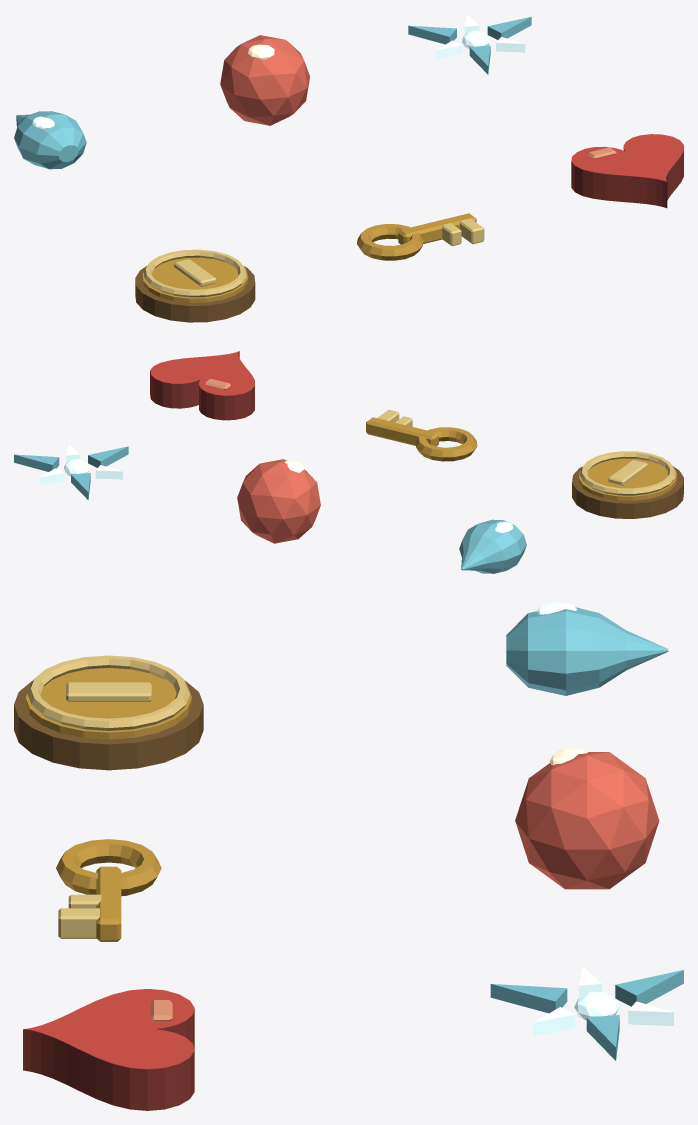
File: props.glb
3 renders of one model, top to bottom at view 1: azimuth 30°, elevation 25°; view 2: azimuth 150°, elevation 25°; view 3: azimuth 270°, elevation 25°, orthographic. The views are drawn at different scales.
Visible parts, largest first — view 1: Heart_Solid, Hostile_RedSphere, Tear_Body, Coin_Base, Coin_Face, Coin_RaisedRim, Key_Bow, Key_Shaft, Hit_Shard_03, Coin_MintMark, Hit_Shard_01, Key_ToothA; view 2: Heart_Solid, Hostile_RedSphere, Tear_Body, Coin_Base, Coin_Face, Coin_RaisedRim, Key_Bow, Key_Shaft, Hit_Shard_01, Coin_MintMark, Hit_Shard_05, Hit_Shard_03; view 3: Heart_Solid, Hostile_RedSphere, Tear_Body, Coin_Base, Coin_Face, Coin_RaisedRim, Key_Bow, Key_Shaft, Coin_MintMark, Hit_Shard_05, Hit_Shard_03, Key_ToothA (+4 smaller).
Boxes of the visible parts, x1,y1,x2,y2 form: Heart_Solid: (571, 134, 683, 208); Hostile_RedSphere: (220, 35, 309, 125); Tear_Body: (14, 111, 86, 169); Coin_Base: (135, 266, 255, 322); Coin_Face: (142, 257, 247, 302); Coin_RaisedRim: (143, 249, 246, 297); Key_Bow: (357, 224, 423, 260); Key_Shaft: (398, 213, 476, 244); Hit_Shard_03: (408, 25, 456, 44); Coin_MintMark: (174, 259, 216, 286); Hit_Shard_01: (487, 16, 531, 39); Key_ToothA: (459, 218, 484, 244); Heart_Solid: (150, 351, 254, 420); Hostile_RedSphere: (237, 459, 320, 543); Tear_Body: (459, 519, 526, 573); Coin_Base: (572, 466, 683, 518); Coin_Face: (579, 458, 676, 500); Coin_RaisedRim: (580, 451, 675, 495); Key_Bow: (415, 427, 477, 461); Key_Shaft: (366, 417, 438, 446); Hit_Shard_01: (14, 454, 59, 471); Coin_MintMark: (608, 460, 647, 485); Hit_Shard_05: (88, 446, 128, 467); Hit_Shard_03: (71, 473, 90, 499); Heart_Solid: (23, 989, 194, 1110); Hostile_RedSphere: (515, 752, 659, 889); Tear_Body: (506, 607, 668, 695); Coin_Base: (14, 680, 203, 770); Coin_Face: (25, 668, 191, 739); Coin_RaisedRim: (27, 655, 189, 730); Key_Bow: (56, 839, 161, 896); Key_Shaft: (96, 866, 121, 941); Coin_MintMark: (66, 682, 151, 701); Hit_Shard_05: (490, 984, 567, 1013); Hit_Shard_03: (615, 970, 683, 1006); Key_ToothA: (58, 908, 99, 938).
Bounding box in the file's own units: 1.19 × 0.191 × 0.7982.
